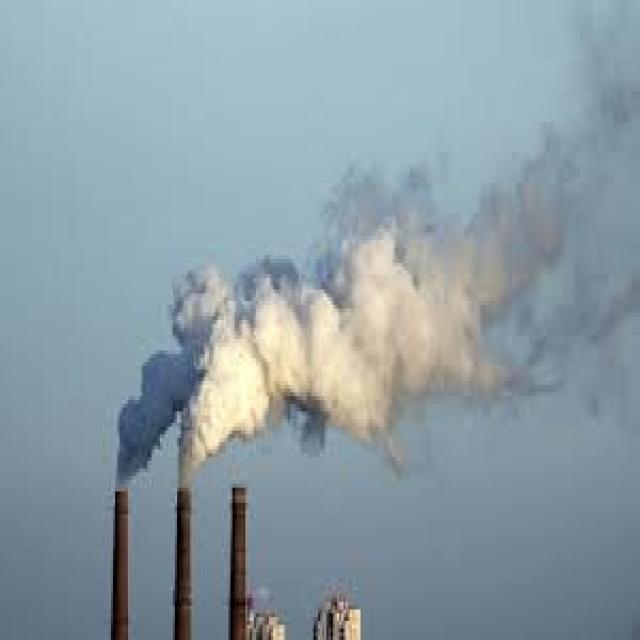Smoke: (116, 0, 640, 491)
